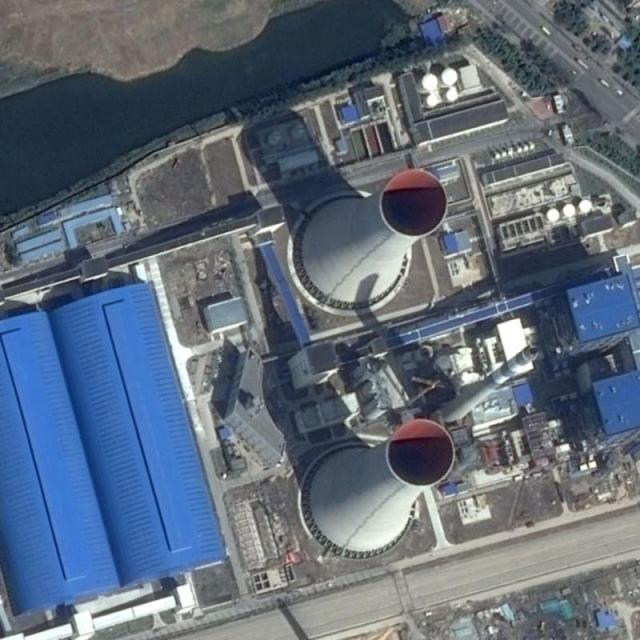vehicle: (576, 58, 589, 70), (542, 26, 551, 36), (600, 79, 610, 88), (573, 44, 582, 52), (617, 89, 623, 96)
